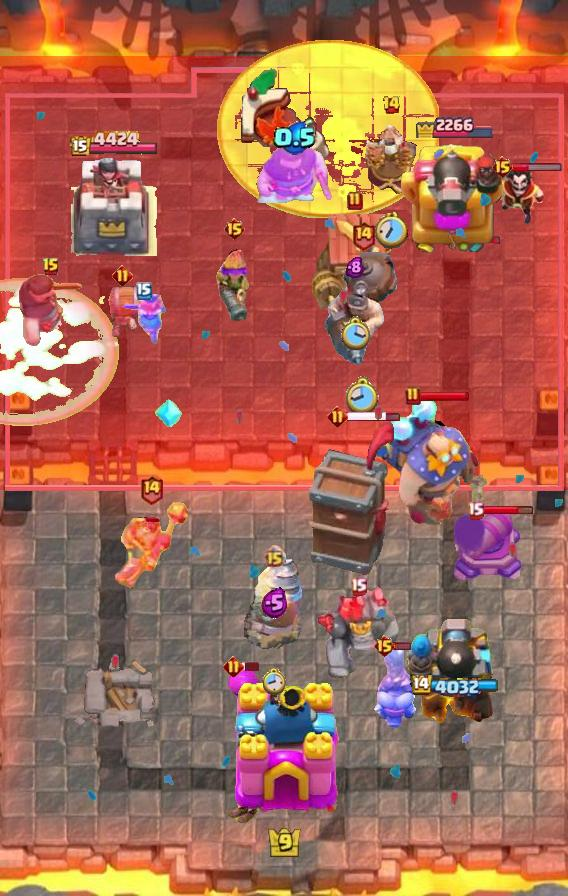bomb-tower: (213, 245, 255, 325)
cannoneer-tower: (315, 585, 401, 681)
dart-goblin: (307, 421, 397, 577)
electro-spirit: (273, 121, 317, 155), (260, 587, 287, 619), (346, 256, 364, 278)
elite-barbarian: (374, 646, 418, 728)
elixir: (346, 375, 380, 416), (375, 212, 409, 248), (340, 316, 370, 352), (262, 668, 286, 696)
elixir-collector: (360, 120, 422, 198)
emote: (347, 410, 402, 423), (512, 162, 564, 174), (418, 390, 470, 402), (481, 504, 534, 515), (241, 661, 261, 672), (393, 641, 412, 651)
fisherman: (465, 474, 491, 526)
freeze: (111, 502, 191, 596)
hog-rider: (120, 292, 168, 346)
king-tower: (222, 680, 346, 826)
knight: (97, 283, 147, 339)
little-prince: (373, 395, 481, 529)
lumberjack: (491, 167, 547, 227)
magic-archer: (244, 558, 304, 650)
miner: (227, 669, 263, 699)
pad_2: (155, 396, 183, 430)
phoenix-big: (0, 276, 120, 427)
phoenix-egg: (217, 40, 439, 218)
queen-tower: (71, 156, 157, 256)
royal-hog: (17, 272, 85, 350), (255, 139, 335, 203)
royal-recruit: (451, 511, 523, 585)
selected: (69, 129, 159, 158), (414, 111, 495, 138), (410, 674, 499, 698)
sparky: (312, 213, 398, 311)
text: (351, 221, 376, 252), (140, 475, 165, 505), (491, 155, 514, 179), (223, 217, 246, 241), (372, 634, 395, 658), (262, 545, 285, 568), (112, 266, 133, 287), (327, 406, 348, 427), (224, 656, 245, 677), (383, 95, 402, 115), (42, 257, 60, 277), (467, 500, 485, 519), (347, 191, 363, 211), (405, 386, 421, 406), (350, 577, 367, 595), (136, 282, 152, 300)
tower-bar: (399, 138, 507, 256), (406, 611, 500, 731)
wizard: (323, 248, 403, 368)
